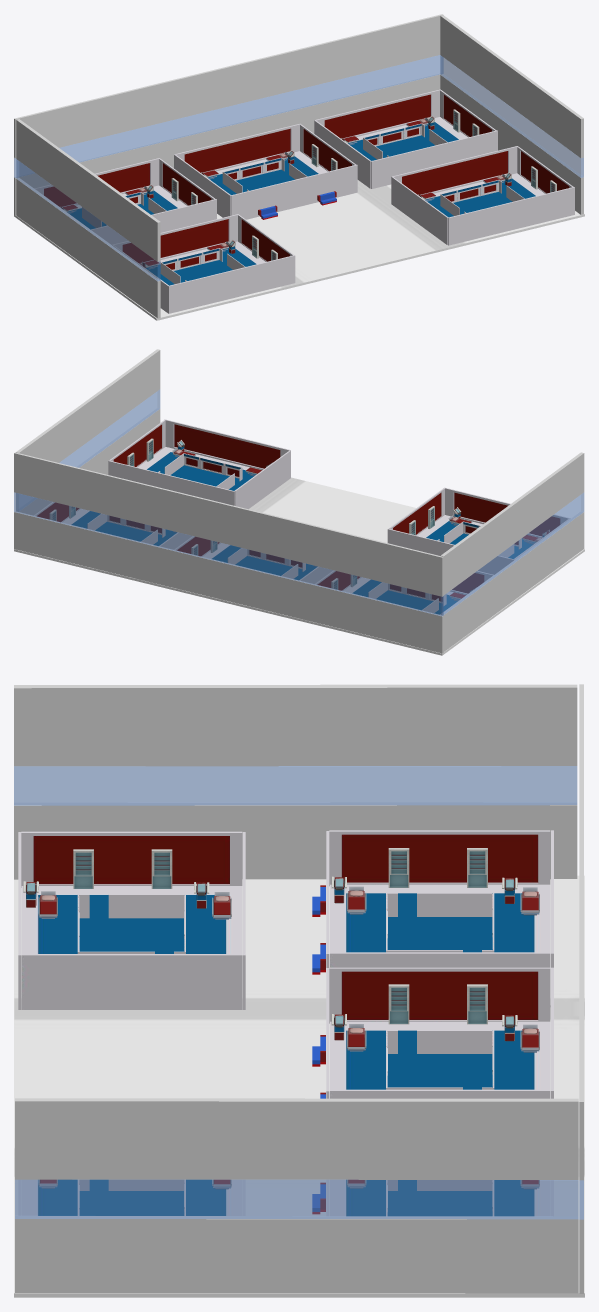
The picture shows the model from 3 angles, top to bottom: view 1: azimuth 30°, elevation 25°; view 2: azimuth 150°, elevation 25°; view 3: azimuth 270°, elevation 25°; orthographic projection. The views are drawn at different scales.
Parts seen in each view (by area): view 1: pasted__pCube21, pasted__pCube23, pCube1, pasted__pCube22, PAREDE_TRAS2, PAREDE_TRAS4, PAREDE_TRAS5, PAREDE_TRAS6, polySurface19, polySurface20, polySurface43, polySurface38 (+5 smaller); view 2: pasted__pCube21, pasted__pCube23, pasted__pCube22, pCube1, PAREDE_TRAS2, polySurface20, PAREDE_TRAS5, PAREDE_TRAS4, PAREDE_TRAS6, polySurface19, polySurface9, polySurface12 (+2 smaller); view 3: pasted__pCube22, pasted__pCube23, pCube1, PAREDE_TRAS6, PAREDE_TRAS5, polySurface12, polySurface11, polySurface10, PAREDE_TRAS4, PAREDE_TRAS2, pasted__pCube21, polySurface14 (+6 smaller).
Boxes of the visible parts, <box> form: pasted__pCube21: <box>14,14,443,215</box>; pasted__pCube23: <box>16,119,160,318</box>; pCube1: <box>14,180,584,320</box>; pasted__pCube22: <box>440,15,583,214</box>; PAREDE_TRAS2: <box>391,146,573,244</box>; PAREDE_TRAS4: <box>314,89,496,188</box>; PAREDE_TRAS5: <box>174,123,355,217</box>; PAREDE_TRAS6: <box>34,158,214,229</box>; polySurface19: <box>168,255,295,313</box>; polySurface20: <box>448,187,574,245</box>; polySurface43: <box>230,164,357,219</box>; polySurface38: <box>371,130,497,188</box>; pasted__pCube21: <box>14,452,443,653</box>; pasted__pCube23: <box>441,452,584,651</box>; pasted__pCube22: <box>16,349,160,515</box>; pCube1: <box>14,477,584,655</box>; PAREDE_TRAS2: <box>108,420,290,509</box>; polySurface20: <box>164,419,290,469</box>; PAREDE_TRAS5: <box>174,536,332,583</box>; PAREDE_TRAS4: <box>34,502,191,549</box>; PAREDE_TRAS6: <box>315,570,459,614</box>; polySurface19: <box>444,487,570,537</box>; polySurface9: <box>387,528,514,574</box>; polySurface12: <box>389,488,444,535</box>; pasted__pCube22: <box>15,1098,578,1293</box>; pasted__pCube23: <box>14,684,577,879</box>; pCube1: <box>14,875,584,1297</box>; PAREDE_TRAS6: <box>329,830,553,1006</box>; PAREDE_TRAS5: <box>329,967,553,1098</box>; polySurface12: <box>21,954,242,1009</box>; polySurface11: <box>21,886,242,953</box>; polySurface10: <box>21,831,242,887</box>; PAREDE_TRAS4: <box>330,1180,553,1215</box>; PAREDE_TRAS2: <box>22,1180,245,1215</box>; pasted__pCube21: <box>579,684,583,1293</box>; polySurface14: <box>108,894,184,918</box>.
Size of the model in its own units: 125 by 27.42 by 72.48.
10 materials, 6 textured.
